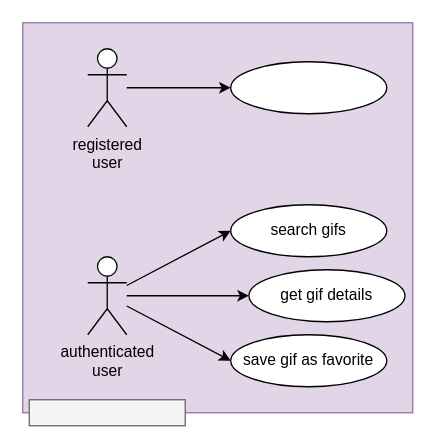
Image size: 435x448. Some labels were removed from this diagram. The centre of each missing label's shape, as x and y in pixels:
authenticate: point 308,87
use case diagram: point 106,412
